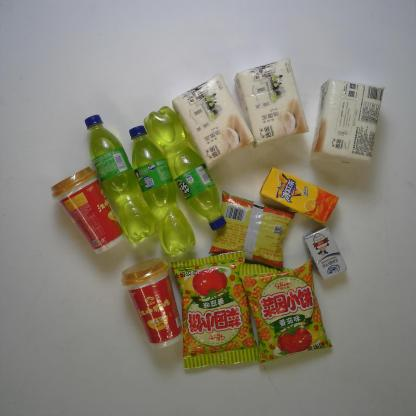Drink: (143, 106, 226, 231), (84, 114, 160, 244), (128, 125, 196, 256), (258, 167, 340, 224)
Instant Drink: (50, 166, 126, 255), (120, 257, 184, 350)
Milk: (302, 227, 347, 280)
Puffed Food: (168, 250, 258, 370), (238, 258, 333, 364)
Seasoner: (208, 191, 297, 273)
Tissue: (171, 73, 256, 170), (233, 57, 310, 149), (310, 78, 385, 164)
